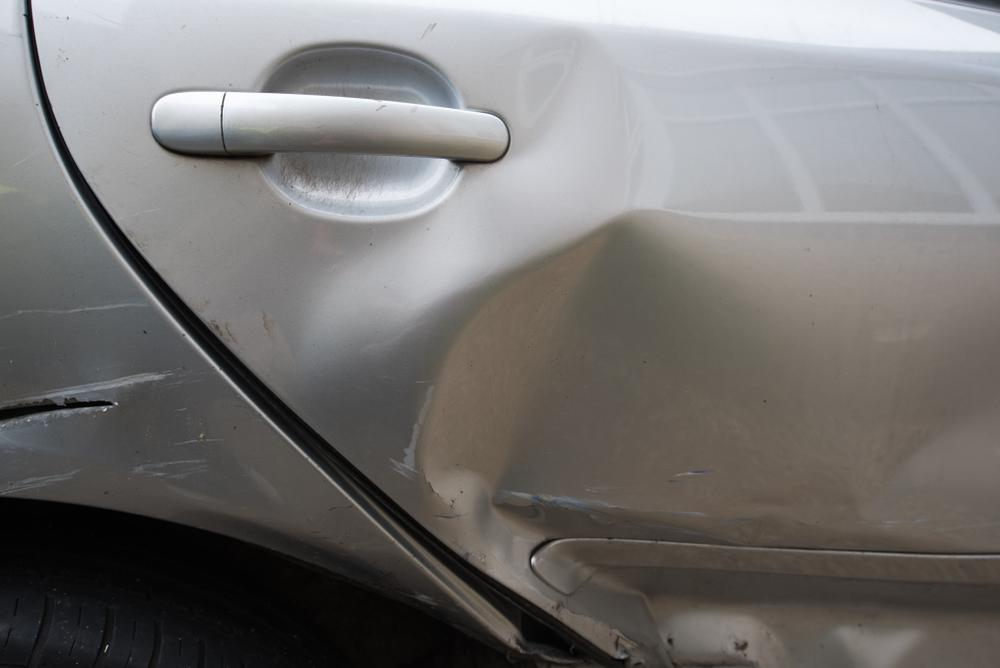crack: (0, 396, 121, 424)
dent: (273, 26, 1000, 668)
scratch: (0, 367, 227, 500)
